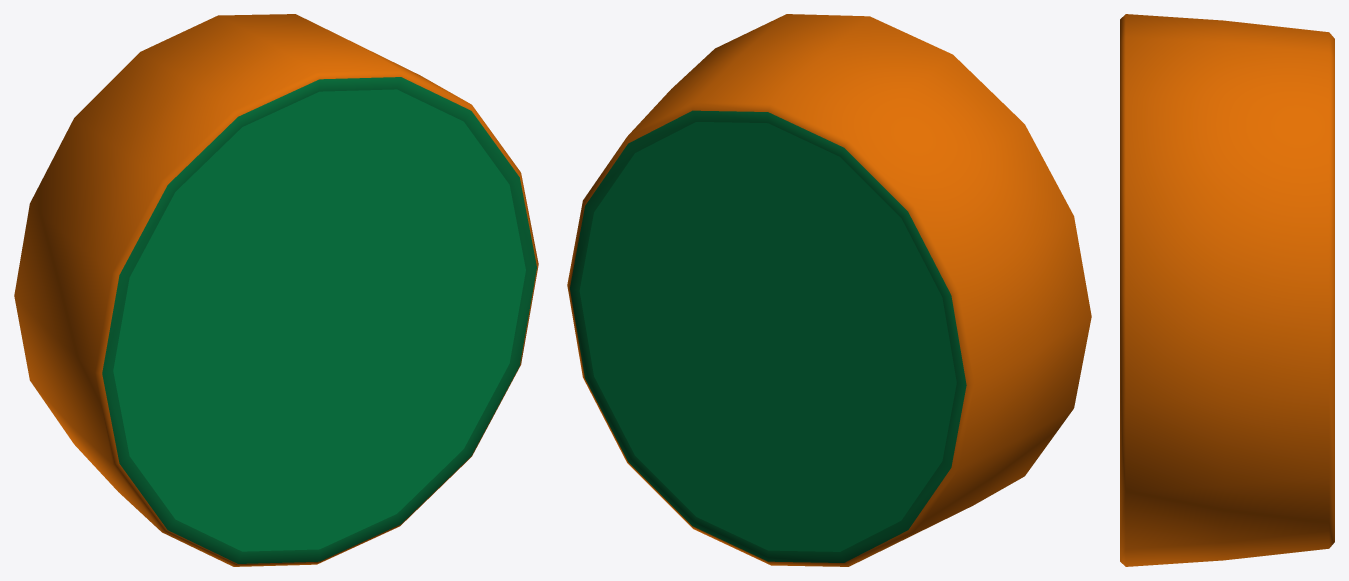
File: Daikon_radish_slice.fbx
3 views of the same model, side by side, from view 1: azimuth 30°, elevation 25°; view 2: azimuth 150°, elevation 25°; view 3: azimuth 270°, elevation 25° (orthographic). The views are drawn at different scales.
Visible parts, largest first — view 1: Daikon_radish_slice; view 2: Daikon_radish_slice; view 3: Daikon_radish_slice.
Part boxes in pixels (x1,y1,x2,y2): Daikon_radish_slice: (14,14,538,566); Daikon_radish_slice: (567,14,1091,566); Daikon_radish_slice: (1120,14,1334,566).
Size of the model in its own units: 50.45 by 20.57 by 53.5.
